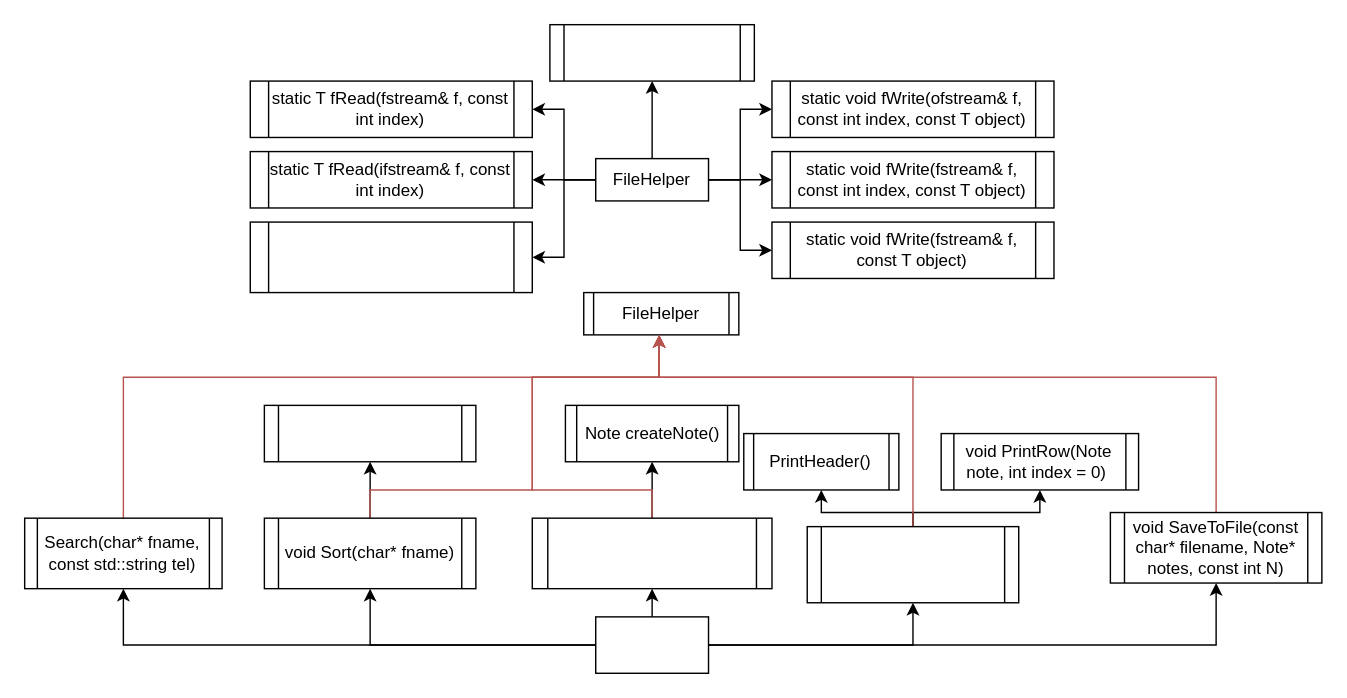
Image size: 1347x698. Some labels were removed from this diagram. The centre of each missing label's shape, as x and y in pixels:
bool getCondition(Note c, Note p): pixel 369 433
main(): pixel 651 644
static int getSize(ifstream& f): pixel 651 52
static void fChange(fstream& f, const int indexFirst, const int indexSecond): pixel 390 257
void appendToFile(char* fname): pixel 651 553
void Print(char* fname) void Print(char* fname, int index): pixel 912 564
